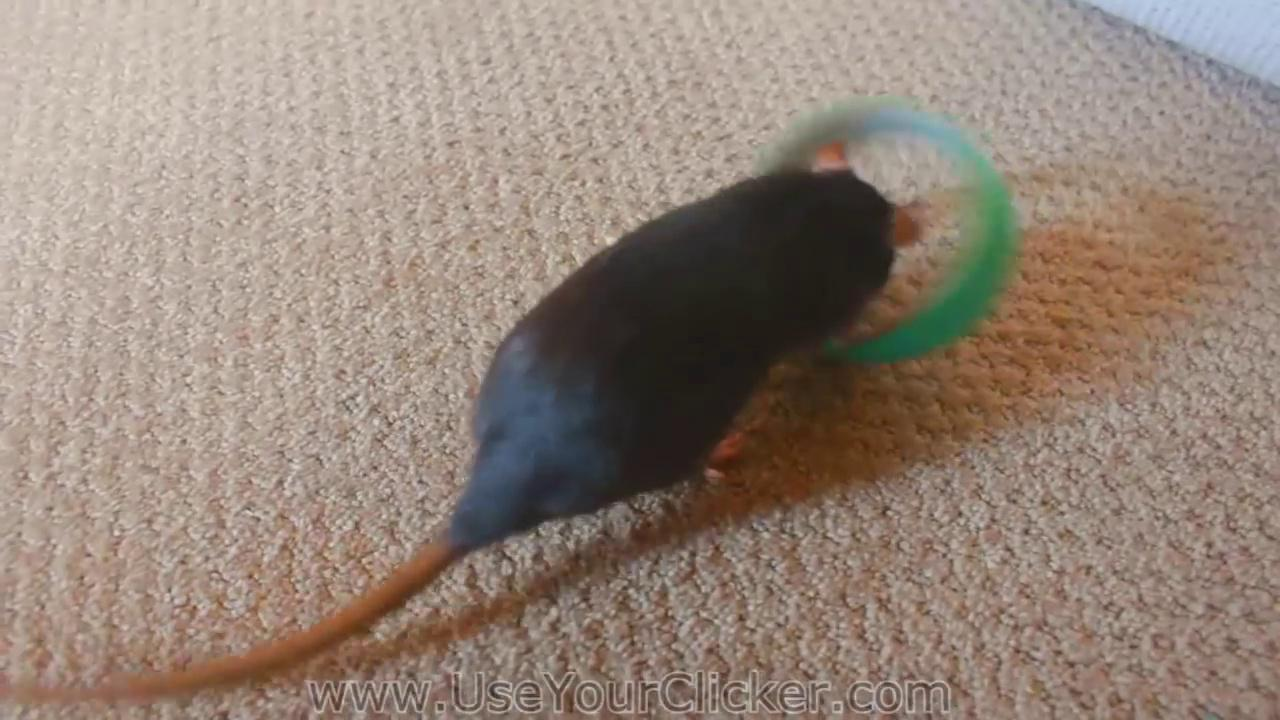rat: (124, 137, 921, 699)
